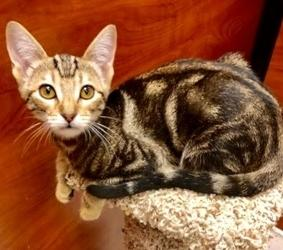bengal: (2, 18, 130, 149)
